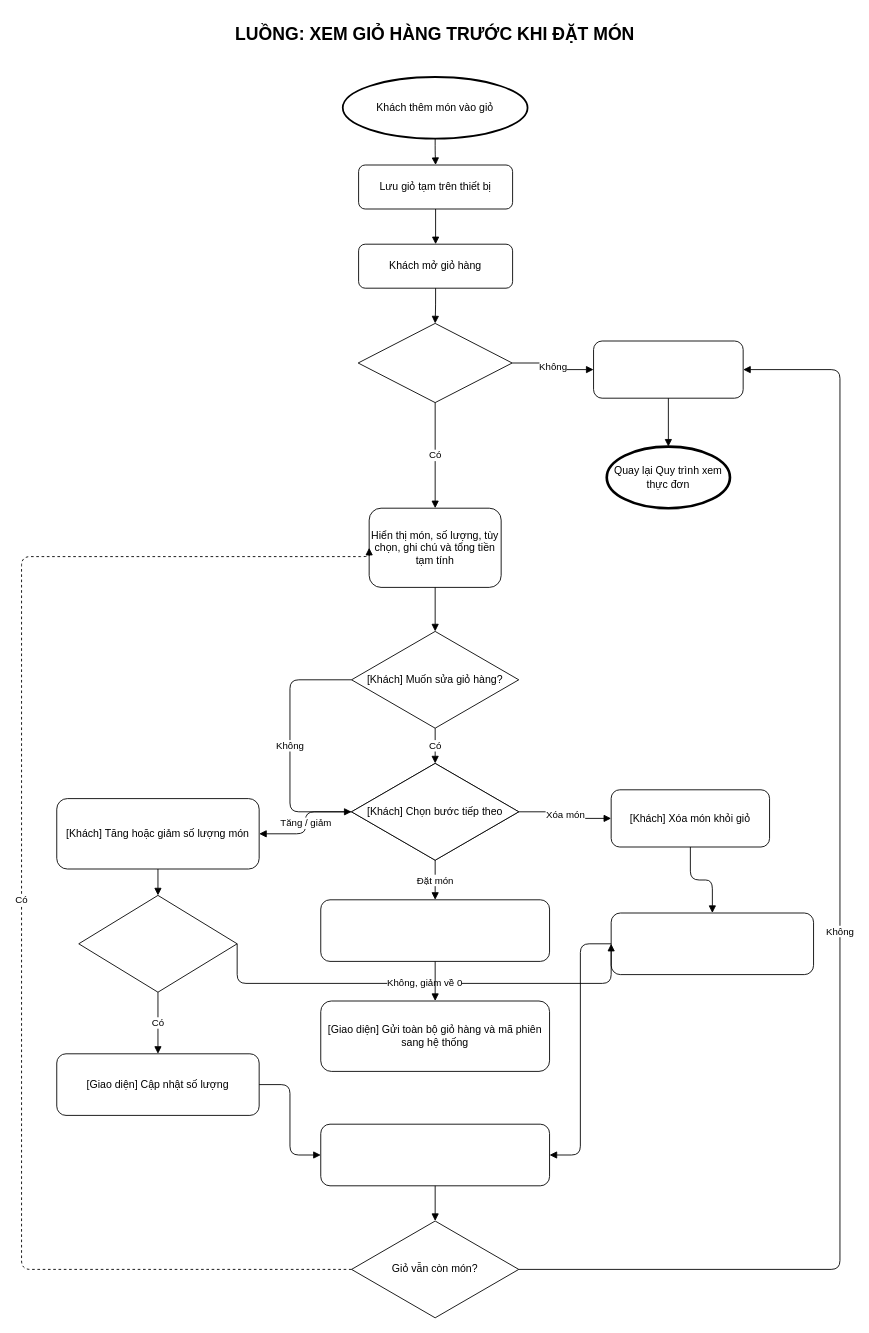
Some shapes in this 869 by 1333 pixel diagram are drawn without their labels. Here are the shapes that lost their labels. From the top down, the centre of each, then its label:
At (x=434, y=363): "Giỏ hàng có món?".
At (x=668, y=369): "[Giao diện] Hiển thị giỏ hàng trống".
At (x=157, y=943): "Số lượng mới lớn hơn 0?".
At (x=435, y=930): "[Khách] Bấm Đặt món".
At (x=712, y=943): "[Giao diện] Xóa món khỏi giỏ tạm".
At (x=435, y=1154): "[Giao diện] Tính lại tổng tiền tạm tính".
